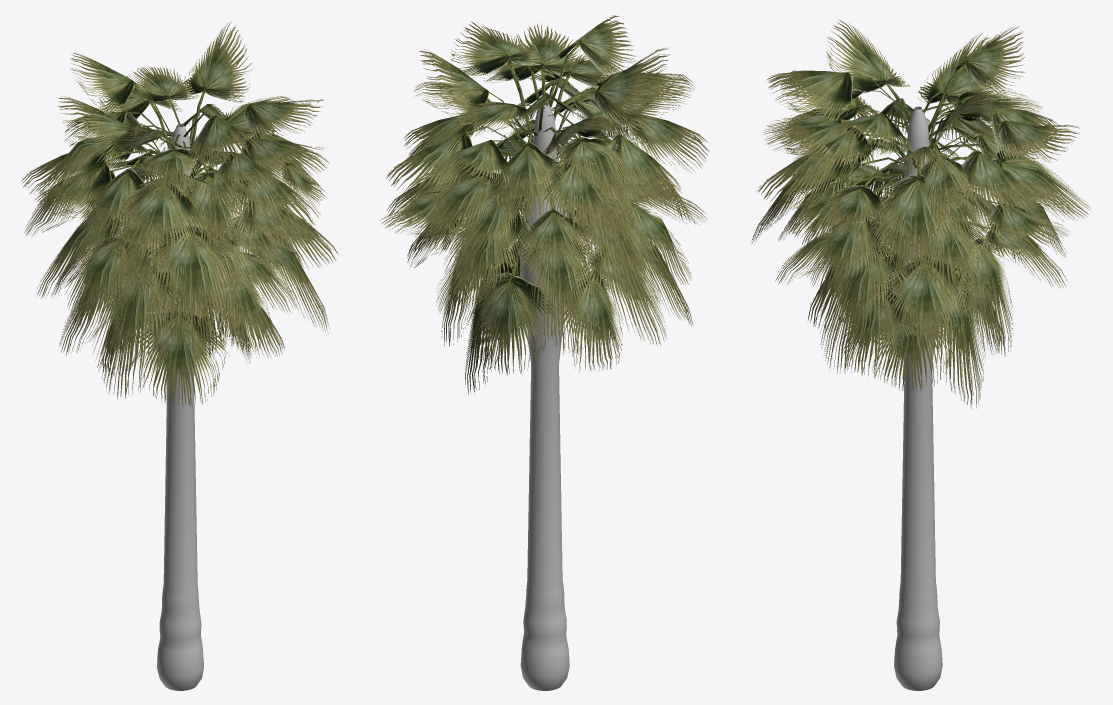
The model's file is Palm.fbx.
3 renders of one model, left to right at view 1: azimuth 30°, elevation 25°; view 2: azimuth 150°, elevation 25°; view 3: azimuth 270°, elevation 25°, orthographic. The views are drawn at different scales.
Visible parts, largest first — view 1: PalmBark, PalmLeaf.015, PalmLeaf.006, PalmLeaf.007, PalmLeaf.034, PalmLeaf.014, PalmLeaf.027, PalmLeaf.025, PalmLeaf.035, PalmLeaf, PalmLeaf.017, PalmLeaf.023 (+34 smaller); view 2: PalmBark, PalmLeaf.004, PalmLeaf.008, PalmLeaf.011, PalmLeaf.013, PalmLeaf.033, PalmLeaf.026, PalmLeaf.005, PalmLeaf.044, PalmLeaf.022, PalmLeaf.040, PalmLeaf.042 (+33 smaller); view 3: PalmBark, PalmLeaf.001, PalmLeaf.010, PalmLeaf.059, PalmLeaf.009, PalmLeaf.041, PalmLeaf.012, PalmLeaf.002, PalmLeaf.063, PalmLeaf.031, PalmLeaf.003, PalmLeaf.029 (+32 smaller).
Boxes of the visible parts, x1,y1,x2,y2 form: PalmBark: [157, 124, 203, 690]; PalmLeaf.015: [145, 182, 243, 358]; PalmLeaf.006: [92, 239, 186, 399]; PalmLeaf.007: [134, 308, 230, 407]; PalmLeaf.034: [115, 169, 209, 262]; PalmLeaf.014: [65, 236, 153, 326]; PalmLeaf.027: [180, 21, 251, 150]; PalmLeaf.025: [178, 147, 248, 257]; PalmLeaf.035: [193, 154, 320, 239]; PalmLeaf: [195, 272, 272, 350]; PalmLeaf.017: [24, 149, 158, 236]; PalmLeaf.023: [81, 156, 151, 245]; PalmBark: [520, 102, 569, 690]; PalmLeaf.004: [470, 238, 560, 375]; PalmLeaf.008: [518, 191, 600, 356]; PalmLeaf.011: [414, 149, 518, 251]; PalmLeaf.013: [444, 189, 537, 306]; PalmLeaf.033: [532, 127, 630, 237]; PalmLeaf.026: [547, 113, 636, 221]; PalmLeaf.005: [550, 252, 622, 371]; PalmLeaf.044: [551, 168, 660, 311]; PalmLeaf.022: [488, 130, 567, 213]; PalmLeaf.040: [450, 21, 541, 143]; PalmLeaf.042: [566, 217, 666, 346]; PalmBark: [893, 106, 942, 690]; PalmLeaf.001: [818, 243, 907, 374]; PalmLeaf.010: [874, 148, 968, 278]; PalmLeaf.059: [878, 252, 975, 351]; PalmLeaf.009: [807, 177, 906, 293]; PalmLeaf.041: [919, 263, 985, 408]; PalmLeaf.012: [900, 217, 992, 295]; PalmLeaf.002: [948, 234, 1013, 356]; PalmLeaf.063: [841, 256, 919, 377]; PalmLeaf.031: [767, 71, 910, 123]; PalmLeaf.003: [868, 306, 952, 391]; PalmLeaf.029: [826, 19, 910, 132].
Size of the model in its own units: 1906 by 4101 by 2054.
